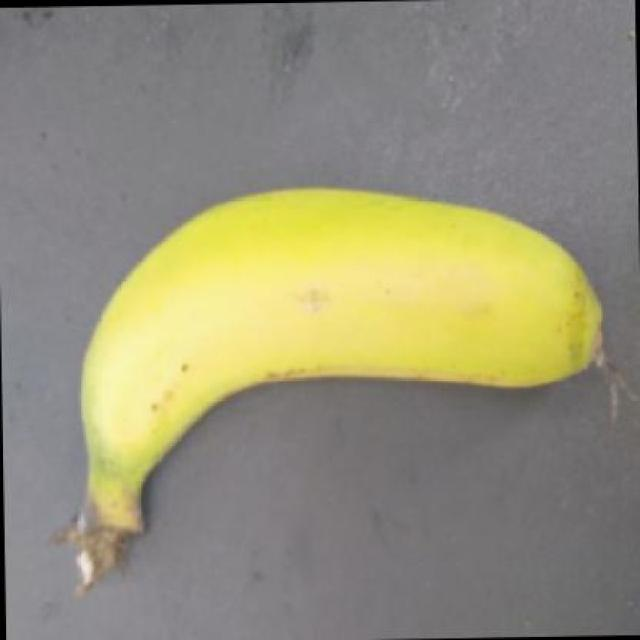Ripe: (35, 145, 622, 583)
